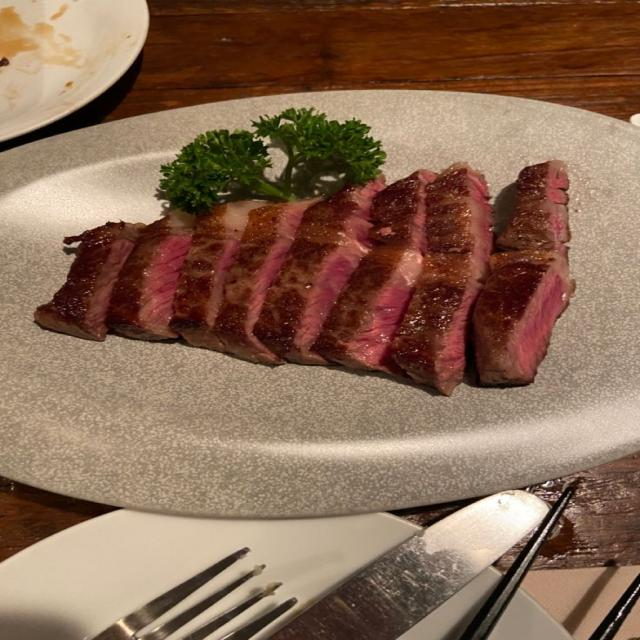beef steak: (313, 170, 435, 376), (256, 177, 385, 363), (391, 164, 492, 395), (474, 160, 574, 386), (213, 198, 318, 363), (170, 201, 283, 350), (34, 221, 144, 341), (107, 212, 194, 340)
